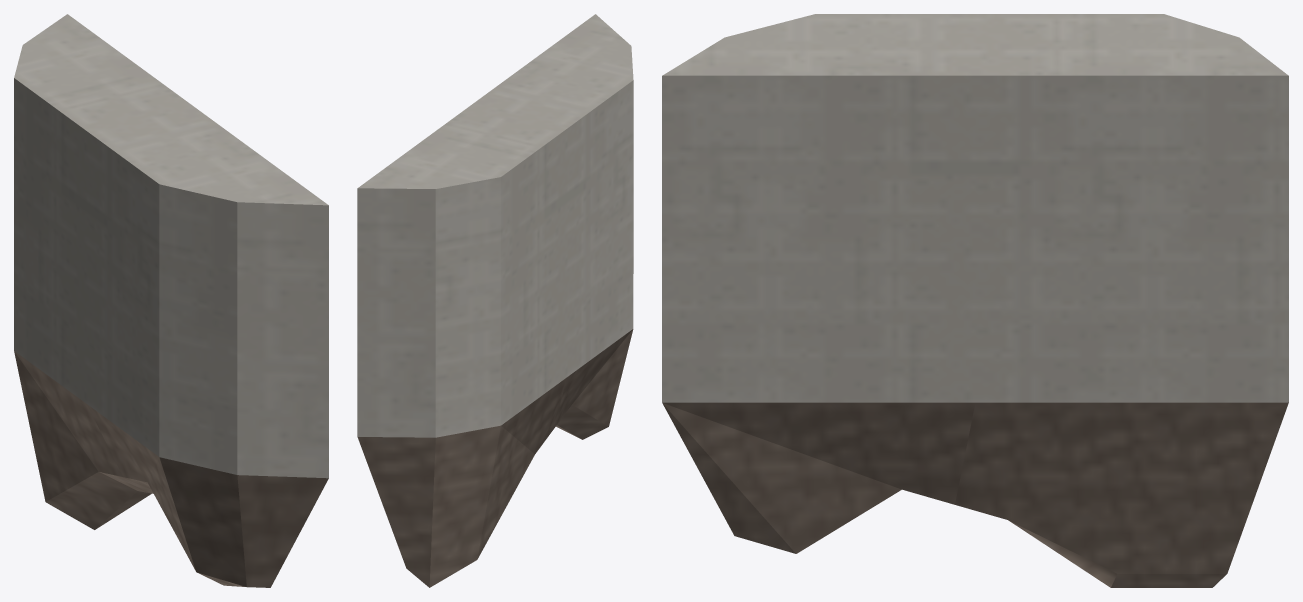
Rendered from 0566_Bubble_Island.glb.
3 renders of one model, left to right at view 1: azimuth 30°, elevation 25°; view 2: azimuth 150°, elevation 25°; view 3: azimuth 270°, elevation 25°, orthographic. The views are drawn at different scales.
Parts seen in each view (by area): view 1: part_0; view 2: part_0; view 3: part_0.
Part boxes in pixels (x1=…): part_0: x1=14, y1=14, x2=328, y2=587; part_0: x1=357, y1=14, x2=633, y2=587; part_0: x1=662, y1=14, x2=1288, y2=587.
Bounding box in the file's own units: 32.49 × 132 × 139.
1 material, 1 textured.
